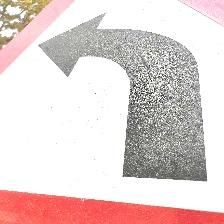Left-Turn: (2, 0, 223, 219)
